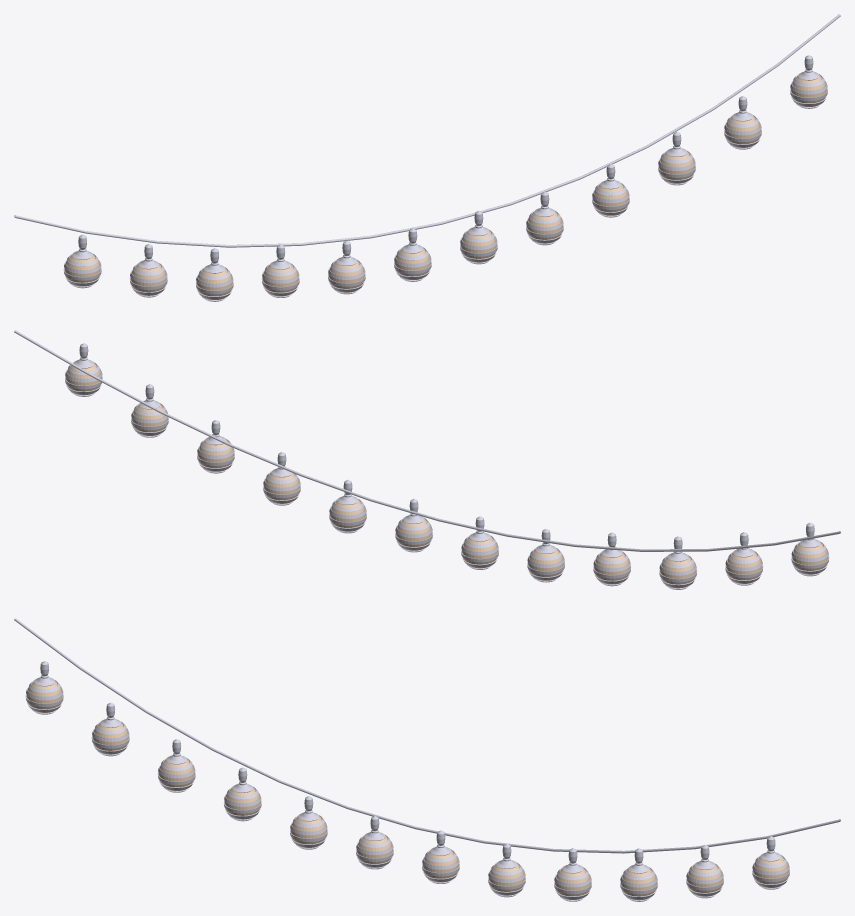
The model's file is string_lights.fbx.
3 renders of one model, top to bottom at view 1: azimuth 30°, elevation 25°; view 2: azimuth 150°, elevation 25°; view 3: azimuth 330°, elevation 25°, orthographic.
Parts seen in each view (by area): view 1: Sphere, BezierCurve; view 2: Sphere, BezierCurve; view 3: Sphere, BezierCurve.
Boxes of the visible parts, <box> form: Sphere: <box>63,55,827,301</box>; BezierCurve: <box>14,14,840,247</box>; Sphere: <box>65,343,829,589</box>; BezierCurve: <box>14,330,840,551</box>; Sphere: <box>25,661,789,901</box>; BezierCurve: <box>14,618,840,853</box>.
Size of the model in its own units: 5006 by 827 by 307.
